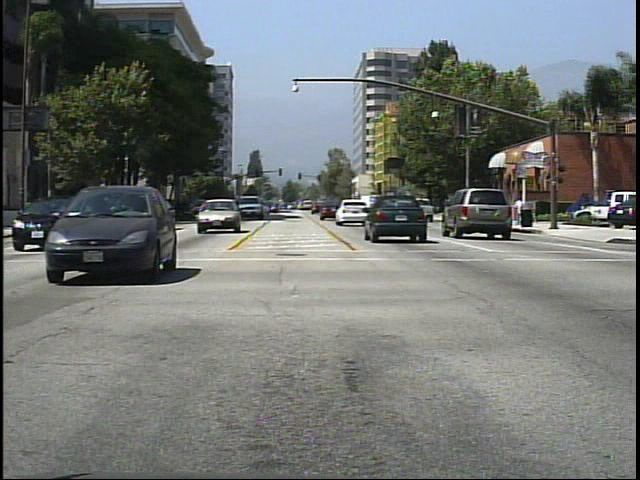person: (511, 195, 529, 232), (480, 190, 497, 225)
